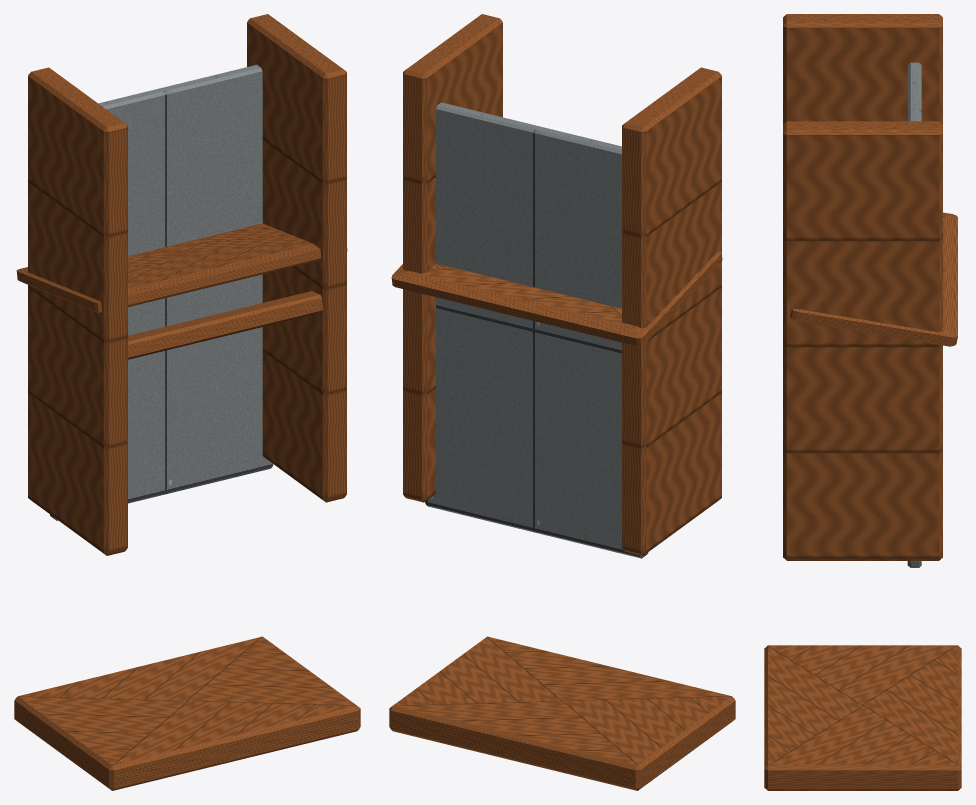
File: lectern.glb
The picture shows the model from 3 angles, left to right: view 1: azimuth 30°, elevation 25°; view 2: azimuth 150°, elevation 25°; view 3: azimuth 270°, elevation 25°; orthographic projection.
Visible parts, largest first — view 1: lectern; view 2: lectern; view 3: lectern.
Part boxes in pixels (x1,y1,x2,y2): lectern: (14, 14, 360, 790); lectern: (389, 14, 735, 790); lectern: (764, 14, 961, 790).
Bounding box in the file's own units: 0.62 × 1.54 × 0.4201.
Materials: 2 (2 with a texture image).
